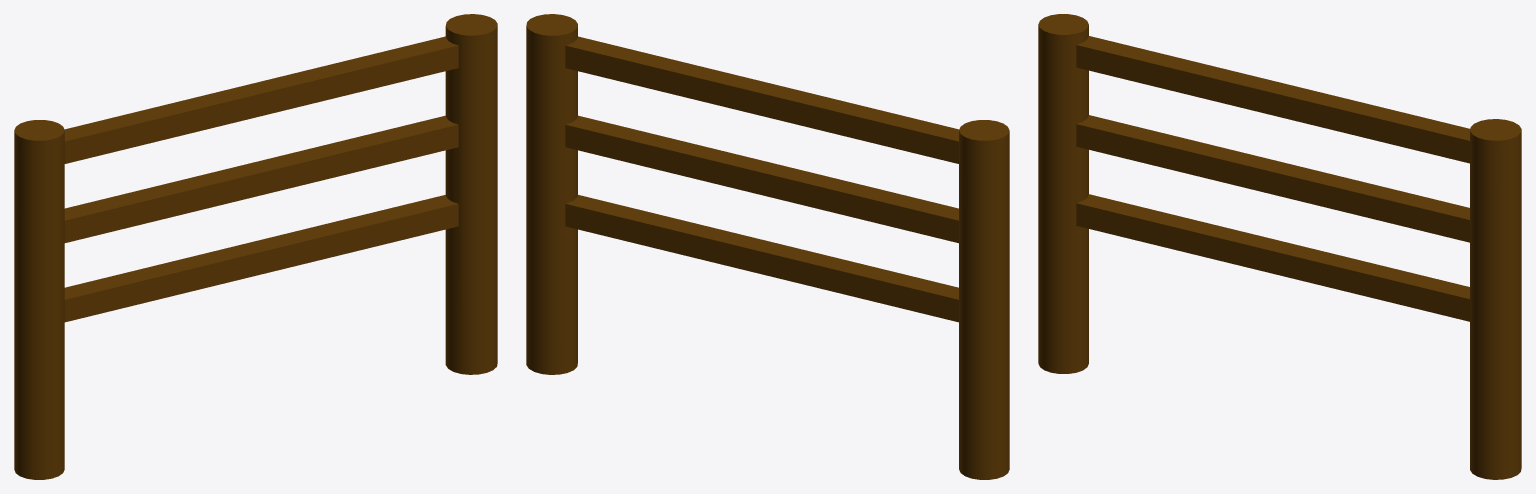
File: Fence2m.fbx
3 views of the same model, side by side, from view 1: azimuth 30°, elevation 25°; view 2: azimuth 150°, elevation 25°; view 3: azimuth 330°, elevation 25° (orthographic).
Parts seen in each view (by area): view 1: Wood_mat Mesh (1); view 2: Wood_mat Mesh (1); view 3: Wood_mat Mesh (1).
Boxes of the visible parts, <box> form: Wood_mat Mesh (1): <box>14,14,497,479</box>; Wood_mat Mesh (1): <box>526,14,1009,479</box>; Wood_mat Mesh (1): <box>1038,14,1521,479</box>.
Bounding box in the file's own units: 2.2 × 1.5 × 0.2053.
